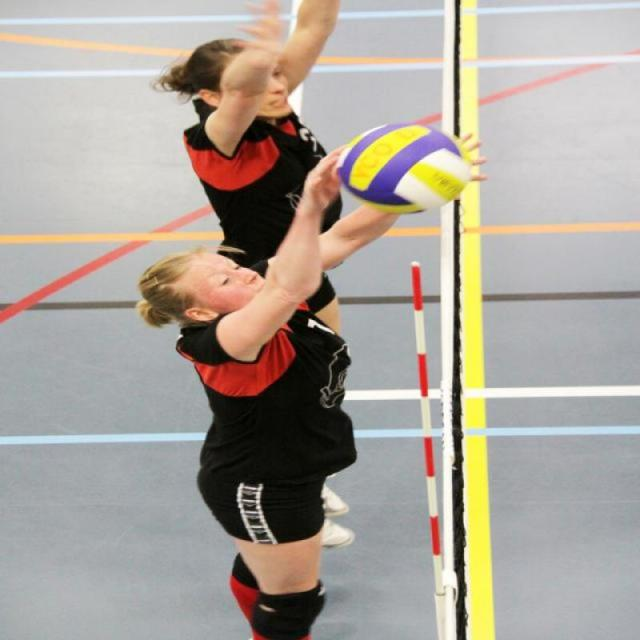volleyball: (334, 120, 470, 214)
